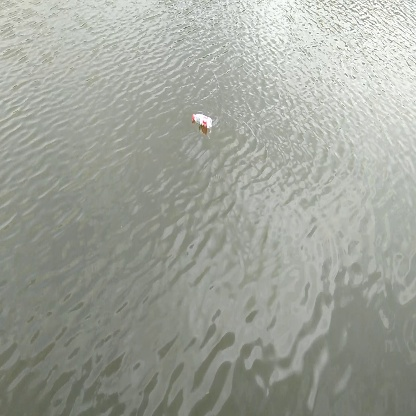bottle: (189, 111, 215, 131)
